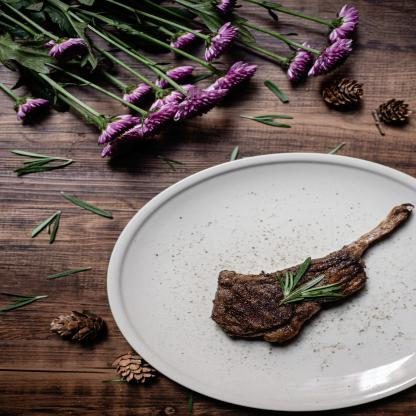Carne: (208, 267, 311, 344)
